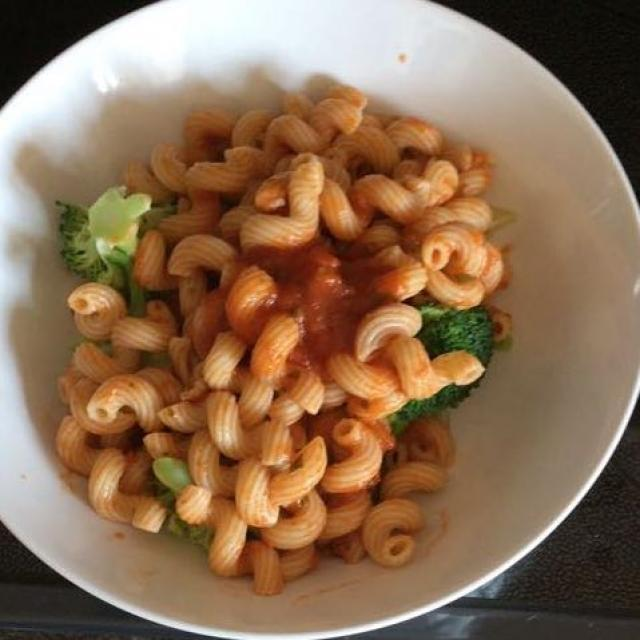broccoli: (52, 173, 511, 562)
pasta: (59, 92, 500, 581)
tomato-sauce: (199, 219, 423, 421)
